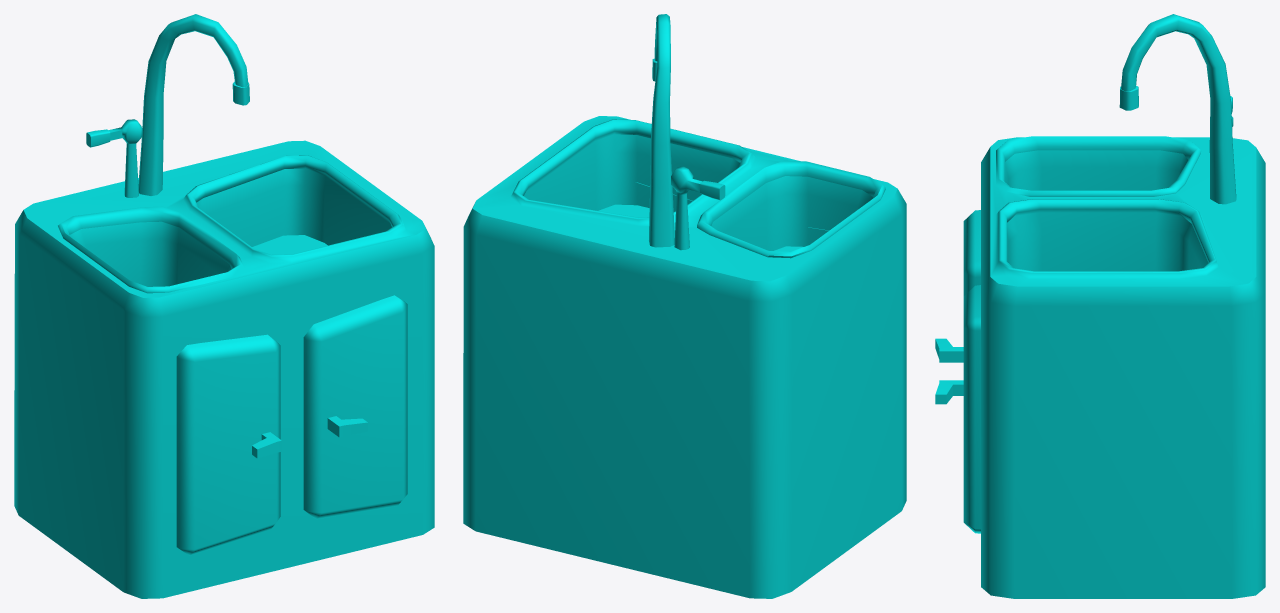
The model's file is Lavandino.fbx.
3 renders of one model, left to right at view 1: azimuth 30°, elevation 25°; view 2: azimuth 150°, elevation 25°; view 3: azimuth 270°, elevation 25°, orthographic. The views are drawn at different scales.
Visible parts, largest first — view 1: Lavandino1; view 2: Lavandino1; view 3: Lavandino1.
Part boxes in pixels (x1=…): Lavandino1: x1=14, y1=14, x2=434, y2=598; Lavandino1: x1=463, y1=14, x2=906, y2=598; Lavandino1: x1=935, y1=14, x2=1265, y2=598.
Size of the model in its own units: 96.62 by 146 by 86.65.
